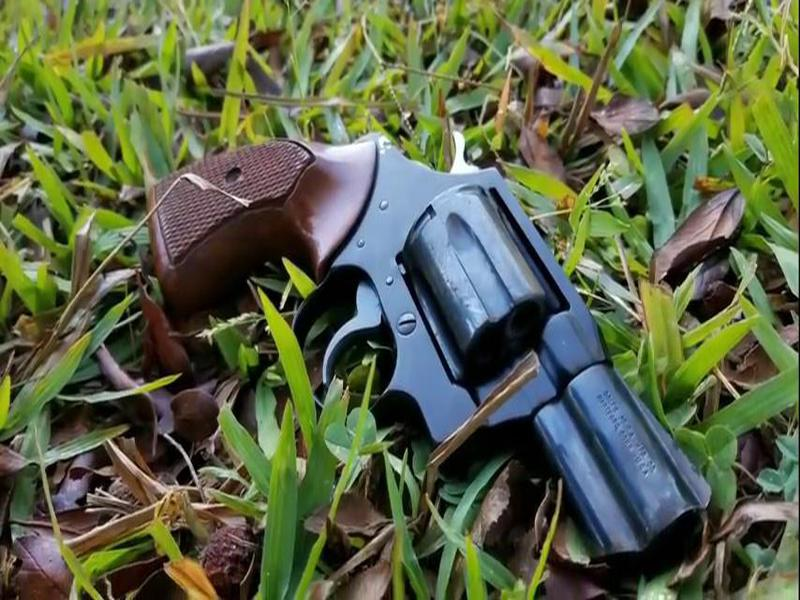Revolver: (136, 110, 761, 568)
